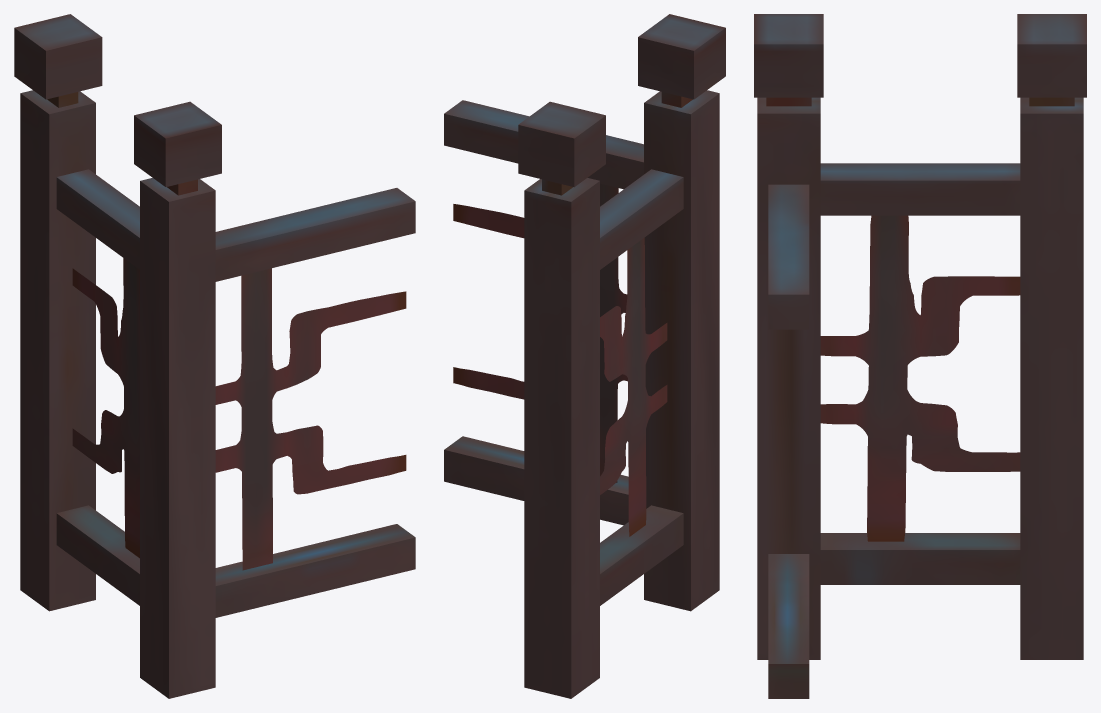
Rendered from BFenceCorner_A.fbx.
3 views of the same model, side by side, from view 1: azimuth 30°, elevation 25°; view 2: azimuth 150°, elevation 25°; view 3: azimuth 270°, elevation 25° (orthographic). The views are drawn at different scales.
Parts seen in each view (by area): view 1: BFenceCorner_A; view 2: BFenceCorner_A; view 3: BFenceCorner_A.
Part boxes in pixels (x1,y1,x2,y2): BFenceCorner_A: [14, 14, 415, 698]; BFenceCorner_A: [444, 14, 725, 698]; BFenceCorner_A: [754, 14, 1086, 698].
Size of the model in its own units: 47.72 by 100 by 48.78.
